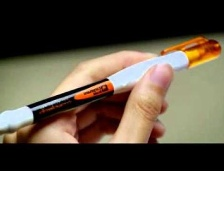correction_fluid: (0, 35, 223, 141)
